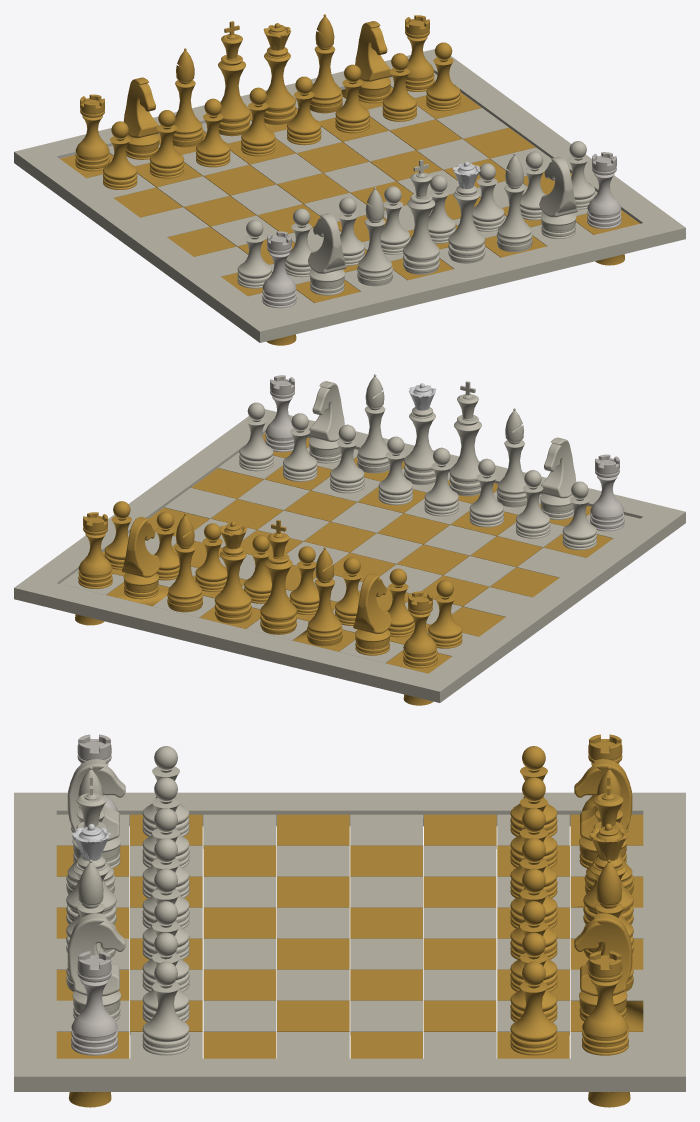
The model's file is scacchiera_compressa.glb.
3 renders of one model, top to bottom at view 1: azimuth 30°, elevation 25°; view 2: azimuth 150°, elevation 25°; view 3: azimuth 270°, elevation 25°, orthographic. The views are drawn at different scales.
Visible parts, largest first — view 1: LimiteBianco, CentroScacchi, LimiteNero, ReBianco, ReginaBianco, ReNero, CavalloBianco.001, CavalloBianco, CavalloNero.001, ReginaNera, CavalloNero, AlfiereBianco.001 (+23 smaller); view 2: LimiteBianco, CentroScacchi, LimiteNero, ReNero, ReginaNera, ReBianco, CavalloNero, CavalloNero.001, CavalloBianco, CavalloBianco.001, ReginaBianco, AlfiereNero (+23 smaller); view 3: LimiteBianco, CentroScacchi, LimiteNero, TorreBianca.001, TorreNera, CavalloBianco.001, CavalloNero, PedoneBianco, PedoneNero.004, CavalloNero.001, CavalloBianco, ReBianco (+23 smaller).
Boxes of the visible parts, x1,y1,x2,y2 form: LimiteBianco: [14, 49, 685, 342]; CentroScacchi: [135, 105, 541, 284]; LimiteNero: [60, 86, 639, 345]; ReBianco: [403, 159, 439, 274]; ReginaBianco: [448, 161, 485, 263]; ReNero: [218, 21, 250, 136]; CavalloBianco.001: [539, 156, 577, 239]; CavalloBianco: [308, 213, 346, 295]; CavalloNero.001: [123, 77, 159, 159]; ReginaNera: [263, 23, 295, 124]; CavalloNero: [355, 21, 391, 103]; AlfiereBianco.001: [357, 187, 392, 286]; LimiteBianco: [14, 409, 685, 702]; CentroScacchi: [158, 466, 564, 644]; LimiteNero: [75, 433, 612, 705]; ReNero: [260, 519, 296, 634]; ReginaNera: [214, 521, 251, 623]; ReBianco: [449, 381, 481, 496]; CavalloNero: [122, 517, 160, 599]; CavalloNero.001: [353, 573, 391, 655]; CavalloBianco: [540, 437, 576, 519]; CavalloBianco.001: [308, 381, 344, 463]; ReginaBianco: [404, 383, 436, 485]; AlfiereNero: [307, 547, 342, 646]; LimiteBianco: [14, 792, 685, 1091]; CentroScacchi: [130, 845, 569, 1034]; LimiteNero: [56, 814, 643, 1107]; TorreBianca.001: [71, 951, 117, 1055]; TorreNera: [582, 951, 628, 1055]; CavalloBianco.001: [67, 913, 125, 1021]; CavalloNero: [574, 913, 632, 1021]; PedoneBianco: [142, 961, 189, 1055]; PedoneNero.004: [510, 961, 557, 1055]; CavalloNero.001: [574, 759, 632, 868]; CavalloBianco: [67, 759, 125, 868]; ReBianco: [66, 775, 116, 924].
Bounding box in the file's own units: 78.7 × 25.4 × 78.7.
